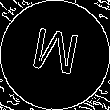M_S: (28, 26, 82, 84)
